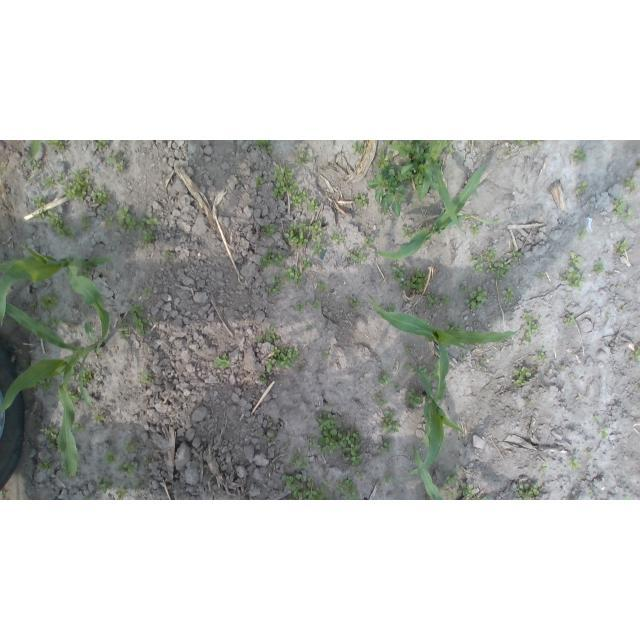Maize: (0, 301, 104, 479), (1, 245, 114, 356), (373, 161, 485, 261), (367, 292, 526, 349), (411, 329, 465, 475), (413, 140, 463, 230), (23, 141, 100, 166), (413, 444, 444, 501)
Weeds: (367, 140, 430, 217), (281, 472, 333, 500), (317, 410, 345, 456), (272, 164, 298, 200), (341, 426, 363, 466), (44, 210, 74, 239), (139, 212, 160, 248), (399, 269, 427, 294), (271, 346, 302, 368), (116, 205, 138, 236), (72, 169, 92, 202), (129, 304, 149, 337), (334, 476, 361, 500), (282, 223, 308, 247), (486, 257, 513, 280), (255, 323, 282, 345), (464, 286, 488, 309), (561, 266, 585, 288), (260, 248, 286, 268), (523, 313, 540, 342), (515, 482, 540, 500), (383, 411, 402, 434), (57, 172, 72, 201), (512, 366, 532, 387), (40, 292, 60, 311), (282, 267, 303, 285), (43, 427, 59, 450), (290, 188, 309, 207), (117, 460, 138, 477), (288, 452, 309, 469), (612, 197, 627, 220), (407, 389, 425, 408), (480, 248, 497, 268), (569, 147, 587, 165), (91, 187, 109, 205), (213, 353, 231, 370), (267, 274, 283, 293), (348, 248, 367, 264), (96, 476, 112, 494), (309, 220, 324, 239), (253, 141, 272, 156), (106, 157, 124, 172), (295, 151, 314, 165), (44, 316, 64, 329), (567, 458, 582, 474), (330, 229, 345, 245), (377, 372, 393, 387), (567, 252, 581, 269), (391, 266, 405, 283), (378, 436, 392, 453), (117, 320, 129, 339), (625, 177, 640, 192), (501, 288, 515, 304), (506, 247, 522, 261), (354, 194, 368, 210), (40, 377, 56, 391), (82, 368, 94, 386), (351, 141, 365, 156), (79, 265, 94, 279), (311, 240, 325, 255), (427, 294, 442, 308), (444, 488, 460, 501), (615, 241, 629, 255), (592, 260, 605, 275), (401, 226, 415, 239), (306, 200, 320, 213), (264, 223, 277, 237), (68, 389, 81, 403), (104, 451, 117, 465), (114, 485, 128, 498), (461, 482, 474, 496), (376, 392, 389, 406), (46, 140, 64, 150), (444, 472, 459, 484), (122, 440, 136, 452), (265, 358, 276, 373), (80, 215, 89, 233), (596, 427, 608, 440), (575, 181, 588, 193), (535, 352, 547, 365), (308, 433, 319, 447), (31, 197, 46, 207), (44, 176, 56, 188), (266, 430, 278, 442), (472, 224, 483, 237), (565, 314, 576, 327), (32, 209, 45, 220), (364, 236, 375, 248), (140, 372, 152, 383), (72, 421, 84, 432), (623, 210, 633, 223), (632, 344, 640, 360), (317, 281, 328, 292), (94, 413, 105, 424), (348, 298, 360, 308), (103, 215, 115, 225), (40, 460, 52, 470), (418, 365, 429, 375), (255, 176, 264, 188), (524, 396, 533, 408), (383, 475, 395, 484), (96, 140, 109, 148), (302, 257, 312, 267), (442, 295, 452, 305), (258, 373, 268, 383), (473, 264, 484, 273), (164, 251, 175, 260), (578, 228, 586, 240), (443, 146, 455, 154), (472, 496, 491, 501), (529, 140, 540, 148), (60, 466, 68, 477), (296, 302, 305, 311), (320, 351, 329, 360), (143, 288, 152, 297), (538, 271, 548, 279), (132, 481, 139, 492), (32, 160, 41, 168), (470, 256, 478, 264), (403, 363, 411, 371), (356, 471, 364, 479), (589, 490, 596, 499), (505, 148, 512, 157), (387, 305, 396, 312), (0, 163, 6, 173), (540, 466, 547, 474), (286, 436, 292, 445), (312, 301, 321, 307), (514, 140, 524, 145), (306, 324, 313, 331), (481, 357, 488, 364), (462, 284, 468, 292), (459, 354, 467, 360), (571, 496, 582, 500), (494, 217, 500, 224), (585, 450, 592, 456), (130, 292, 137, 298), (622, 305, 628, 312), (427, 375, 434, 381), (593, 415, 599, 421), (437, 160, 443, 166), (83, 494, 89, 500), (476, 364, 482, 370), (407, 348, 413, 354), (30, 304, 37, 309), (623, 496, 629, 501), (394, 385, 400, 390), (0, 490, 4, 497), (99, 351, 104, 356), (473, 141, 480, 144), (328, 404, 333, 408), (260, 432, 265, 436), (559, 366, 563, 370)
